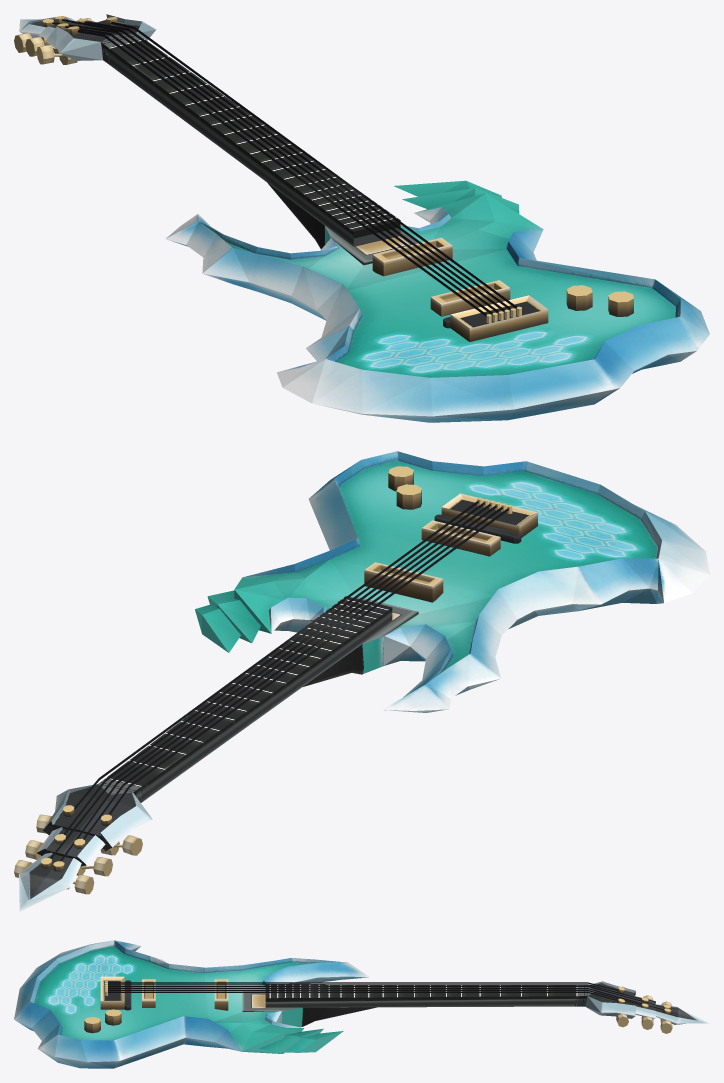
File: Weapon_5pb3.obj
3 renders of one model, top to bottom at view 1: azimuth 30°, elevation 25°; view 2: azimuth 150°, elevation 25°; view 3: azimuth 270°, elevation 25°, orthographic. The views are drawn at different scales.
Parts seen in each view (by area): view 1: Weapon_5pb_3; view 2: Weapon_5pb_3; view 3: Weapon_5pb_3.
Part boxes in pixels (x1,y1,x2,y2): Weapon_5pb_3: (14,14,709,422); Weapon_5pb_3: (14,451,709,911); Weapon_5pb_3: (14,940,709,1068).
Bounding box in the file's own units: 15.76 × 2.33 × 38.72.
Materials: 1 (1 with a texture image).
